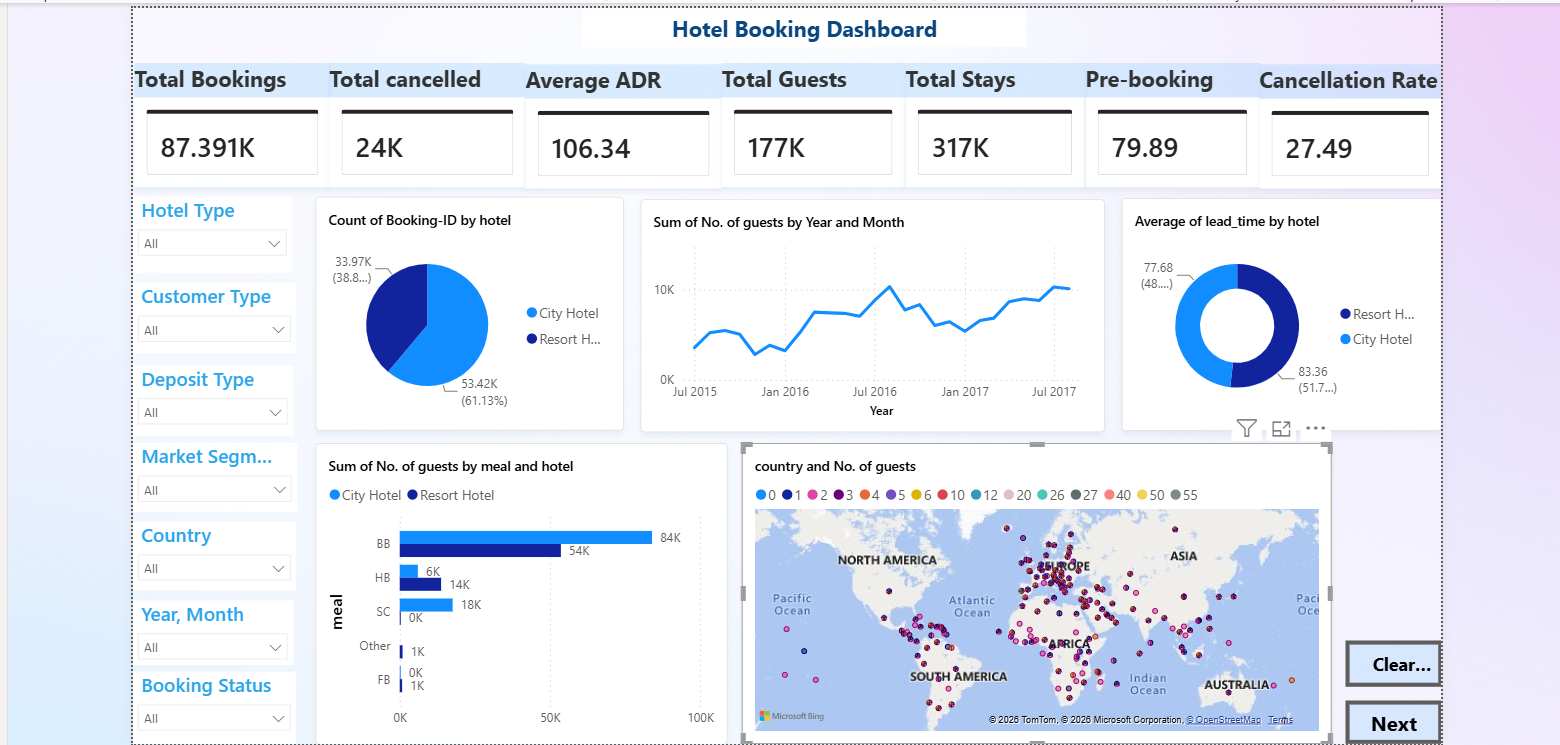

This screenshot's page, from the dashboard's own definition file:
{"tool":"powerbi","page":{"name":"Page 1","canvas":[1280,720],"ordinal":0},"visuals":[{"type":"cardVisual","title":"Total Bookings","fields":{"Data":["CountNonNull(Hotel Bookings (2).Booking-ID)"]},"box":[1.4,53.5,192.1,122.1],"z":0},{"type":"cardVisual","title":"Total cancelled","fields":{"Data":["Sum(Hotel Bookings (2).is_canceled)"]},"box":[192.1,53.5,192.1,122.1],"z":1000},{"type":"cardVisual","title":"Average ADR","fields":{"Data":["Avg(Hotel Bookings (2).adr)"]},"box":[384.2,54.9,192.1,122.1],"z":2000},{"type":"cardVisual","title":"Total Guests","fields":{"Data":["Sum(Hotel Bookings (2).No. of guests)"]},"box":[576.3,53.5,179.8,122.1],"z":3000},{"type":"cardVisual","title":"Total Stays","fields":{"Data":["Sum(Hotel Bookings (2).Total Stays)"]},"box":[756.1,53.5,175.6,122.1],"z":4000},{"type":"cardVisual","title":"Pre-booking","fields":{"Data":["Avg(Hotel Bookings (2).lead_time)"]},"box":[931.7,53.5,170.2,122.1],"z":5000},{"type":"cardVisual","title":"Cancellation Rate","fields":{"Data":["Hotel Bookings (2).Cancellation Rate"]},"box":[1101.9,54.9,178.4,122.1],"z":6000},{"type":"slicer","fields":{"Values":["Hotel Bookings (2).hotel"]},"box":[0,185.2,155.1,74.1],"z":7000},{"type":"slicer","fields":{"Values":["Hotel Bookings (2).customer_type"]},"box":[0,269,159.2,68.6],"z":8000},{"type":"slicer","fields":{"Values":["Hotel Bookings (2).deposit_type"]},"box":[0,349.9,156.4,68.6],"z":9000},{"type":"slicer","fields":{"Values":["Hotel Bookings (2).market_segment"]},"box":[0,425.4,160.5,67.2],"z":10000},{"type":"slicer","fields":{"Values":["Hotel Bookings (2).country"]},"box":[0,502.2,159.2,67.2],"z":11000},{"type":"slicer","fields":{"Values":["Hotel Bookings (2).Arrival Date.Variation.Date Hierarchy.Year","Hotel Bookings (2).Arrival Date.Variation.Date Hierarchy.Month"]},"box":[0,579.1,156.4,63.1],"z":12000},{"type":"slicer","fields":{"Values":["Hotel Bookings (2).Booking Status"]},"box":[0,649.1,159.2,71.4],"z":13000},{"type":"actionButton","box":[1185.6,618.9,94.7,45.3],"z":14000},{"type":"pieChart","fields":{"Y":["CountNonNull(Hotel Bookings (2).Booking-ID)"],"Category":["Hotel Bookings (2).hotel"]},"box":[178.4,185.2,301.9,229.2],"z":15000},{"type":"lineChart","fields":{"Y":["Sum(Hotel Bookings (2).No. of guests)"],"Category":["Hotel Bookings (2).Arrival Date.Variation.Date Hierarchy.Year","Hotel Bookings (2).Arrival Date.Variation.Date Hierarchy.Month"]},"box":[497,187.2,454.5,228.1],"z":16000},{"type":"donutChart","fields":{"Y":["Avg(Hotel Bookings (2).lead_time)"],"Category":["Hotel Bookings (2).hotel"]},"box":[966.8,185.5,313.2,228.1],"z":17000},{"type":"clusteredBarChart","fields":{"Y":["Sum(Hotel Bookings (2).No. of guests)"],"Category":["Hotel Bookings (2).meal"],"Series":["Hotel Bookings (2).hotel"]},"box":[178.4,425.4,403.4,295],"z":18000},{"type":"actionButton","box":[1185.6,677.9,94.7,42.5],"z":19000},{"type":"textbox","box":[440.5,0,433.6,38.4],"z":20000},{"type":"map","fields":{"Category":["Hotel Bookings (2).country"],"Series":["Hotel Bookings (2).No. of guests"]},"box":[595.5,425.4,577.7,295],"z":21000}]}

Visuals, with their boxes on the page's 1280x720 design canvas (x1, y1, x2, y2). These are canvas units, not pixel positions in the 1560x745 screenshot, which may show the page scaled, cropped or inside an application window:
"Total Bookings" cardVisual: box=[1, 54, 194, 176]
"Total cancelled" cardVisual: box=[192, 54, 384, 176]
"Average ADR" cardVisual: box=[384, 55, 576, 177]
"Total Guests" cardVisual: box=[576, 54, 756, 176]
"Total Stays" cardVisual: box=[756, 54, 932, 176]
"Pre-booking" cardVisual: box=[932, 54, 1102, 176]
"Cancellation Rate" cardVisual: box=[1102, 55, 1280, 177]
slicer - Hotel Bookings (2).hotel: box=[0, 185, 155, 259]
slicer - Hotel Bookings (2).customer_type: box=[0, 269, 159, 338]
slicer - Hotel Bookings (2).deposit_type: box=[0, 350, 156, 418]
slicer - Hotel Bookings (2).market_segment: box=[0, 425, 160, 493]
slicer - Hotel Bookings (2).country: box=[0, 502, 159, 569]
slicer - Hotel Bookings (2).Arrival Date.Variation.Date Hierarchy.Year x Hotel Bookings (2).Arrival Date.Variation.Date Hierarchy.Month: box=[0, 579, 156, 642]
slicer - Hotel Bookings (2).Booking Status: box=[0, 649, 159, 720]
actionButton: box=[1186, 619, 1280, 664]
pieChart - CountNonNull(Hotel Bookings (2).Booking-ID) x Hotel Bookings (2).hotel: box=[178, 185, 480, 414]
lineChart - Sum(Hotel Bookings (2).No. of guests) x Hotel Bookings (2).Arrival Date.Variation.Date Hierarchy.Year: box=[497, 187, 952, 415]
donutChart - Avg(Hotel Bookings (2).lead_time) x Hotel Bookings (2).hotel: box=[967, 186, 1280, 414]
clusteredBarChart - Sum(Hotel Bookings (2).No. of guests) x Hotel Bookings (2).meal: box=[178, 425, 582, 720]
actionButton: box=[1186, 678, 1280, 720]
textbox: box=[440, 0, 874, 38]
map - Hotel Bookings (2).country x Hotel Bookings (2).No. of guests: box=[596, 425, 1173, 720]
